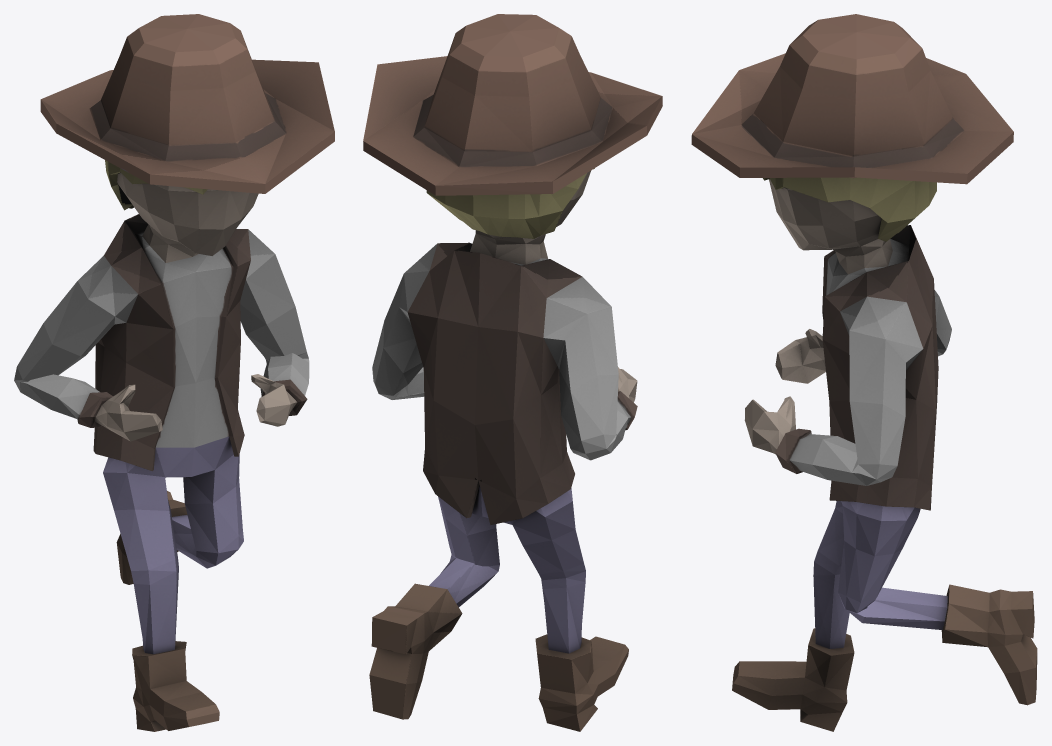
Rendered from char_14.obj.
The picture shows the model from 3 angles, left to right: view 1: azimuth 30°, elevation 25°; view 2: azimuth 150°, elevation 25°; view 3: azimuth 270°, elevation 25°; orthographic projection. The views are drawn at different scales.
Visible parts, largest first — view 1: Cube; view 2: Cube; view 3: Cube.
Boxes of the visible parts, x1=… form: Cube: x1=14, y1=14, x2=334, y2=731; Cube: x1=363, y1=14, x2=662, y2=731; Cube: x1=691, y1=14, x2=1037, y2=731.
Bounding box in the file's own units: 3.52 × 8.6 × 3.79.
Materials: 1 (1 with a texture image).
